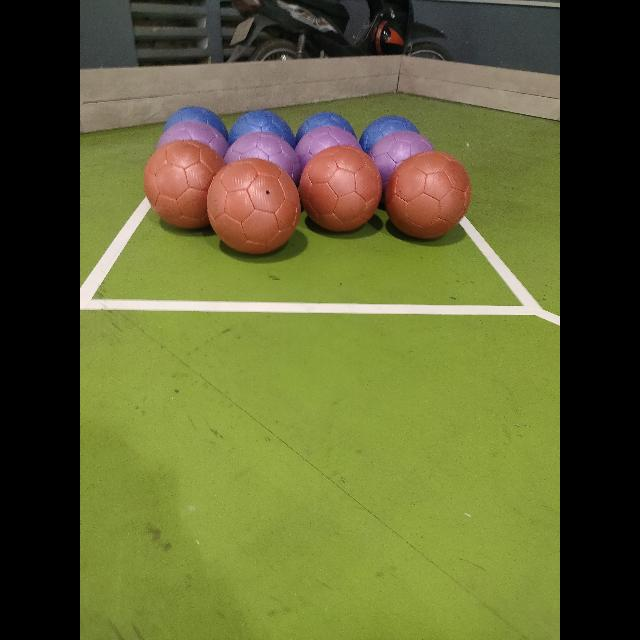B: (228, 110, 296, 148), (160, 108, 228, 140), (359, 116, 419, 152), (296, 111, 356, 141)
P: (368, 130, 434, 192), (226, 132, 300, 186), (296, 126, 358, 184), (158, 120, 228, 158)
R: (208, 158, 300, 254), (142, 142, 225, 230), (386, 152, 470, 238), (299, 146, 381, 230)
